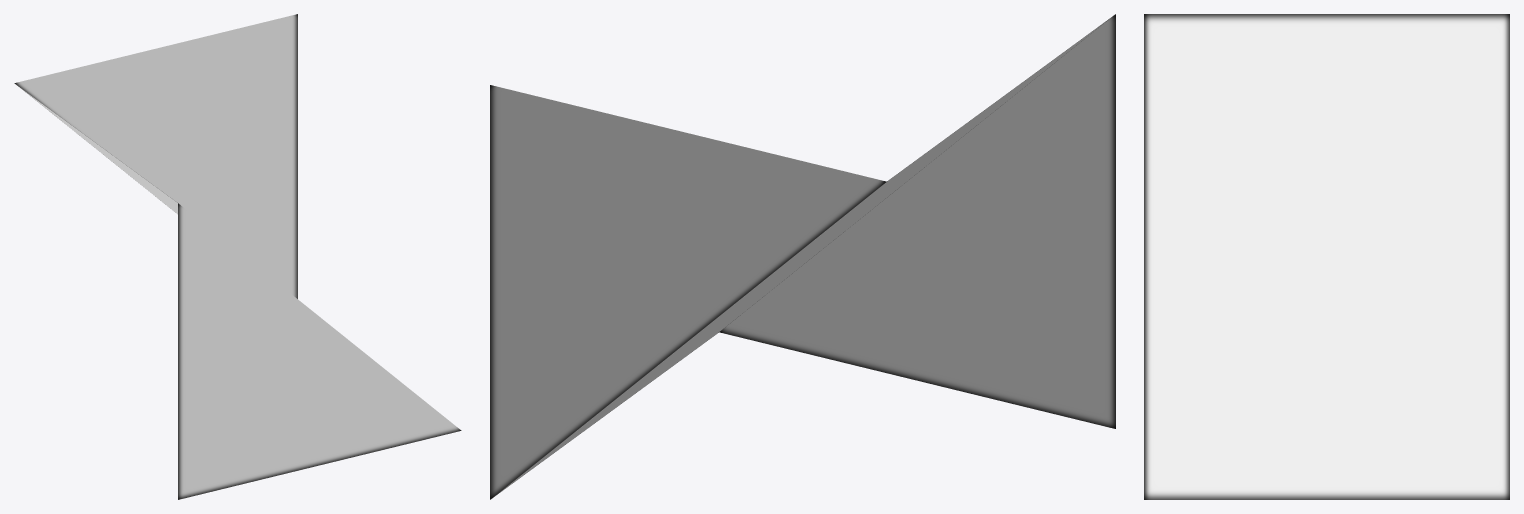
The model's file is slope_2-side.fbx.
3 renders of one model, left to right at view 1: azimuth 30°, elevation 25°; view 2: azimuth 150°, elevation 25°; view 3: azimuth 270°, elevation 25°, orthographic. The views are drawn at different scales.
Parts seen in each view (by area): view 1: slope_2-side; view 2: slope_2-side; view 3: slope_2-side.
Part boxes in pixels (box(x1,y1,x2,y2)): slope_2-side: box(14, 14, 461, 499); slope_2-side: box(490, 14, 1115, 499); slope_2-side: box(1144, 14, 1509, 499).
Size of the model in its own units: 100 by 100 by 100.
